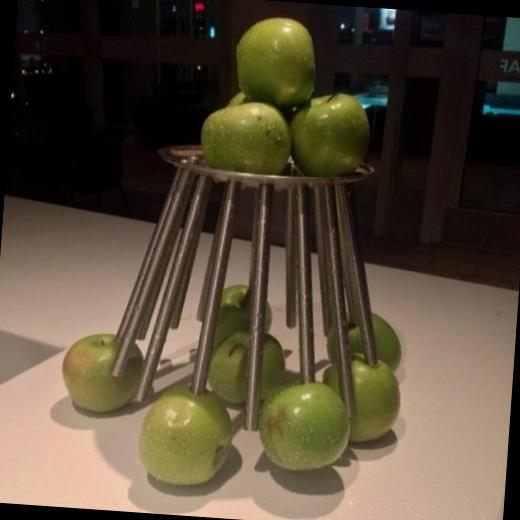Apple: (136, 380, 236, 488), (253, 376, 352, 476), (230, 14, 321, 110), (281, 87, 372, 180), (319, 352, 403, 448), (59, 328, 147, 416), (198, 98, 294, 172), (203, 330, 289, 408), (321, 306, 406, 374), (212, 282, 272, 350), (226, 89, 292, 111)
